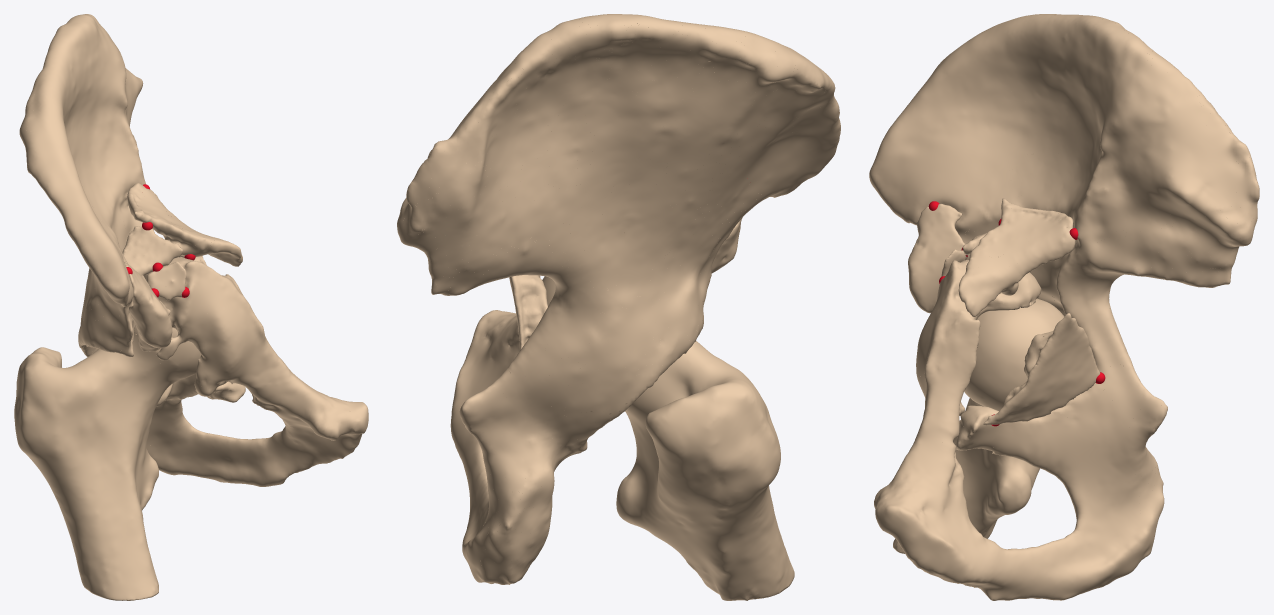
The picture shows the model from 3 angles, left to right: view 1: azimuth 30°, elevation 25°; view 2: azimuth 150°, elevation 25°; view 3: azimuth 270°, elevation 25°; orthographic projection. The views are drawn at different scales.
Parts seen in each view (by area): view 1: Hipbone combined_4, Femur_2; view 2: Hipbone combined_4, Femur_2; view 3: Hipbone combined_4, Femur_2.
Part boxes in pixels (<box>): Hipbone combined_4: <box>19,14,368,486</box>; Femur_2: <box>14,325,200,600</box>; Hipbone combined_4: <box>397,14,840,584</box>; Femur_2: <box>542,276,794,600</box>; Hipbone combined_4: <box>869,14,1259,600</box>; Femur_2: <box>893,298,1064,553</box>.
Bounding box in the file's own units: 156 × 243 × 161.
